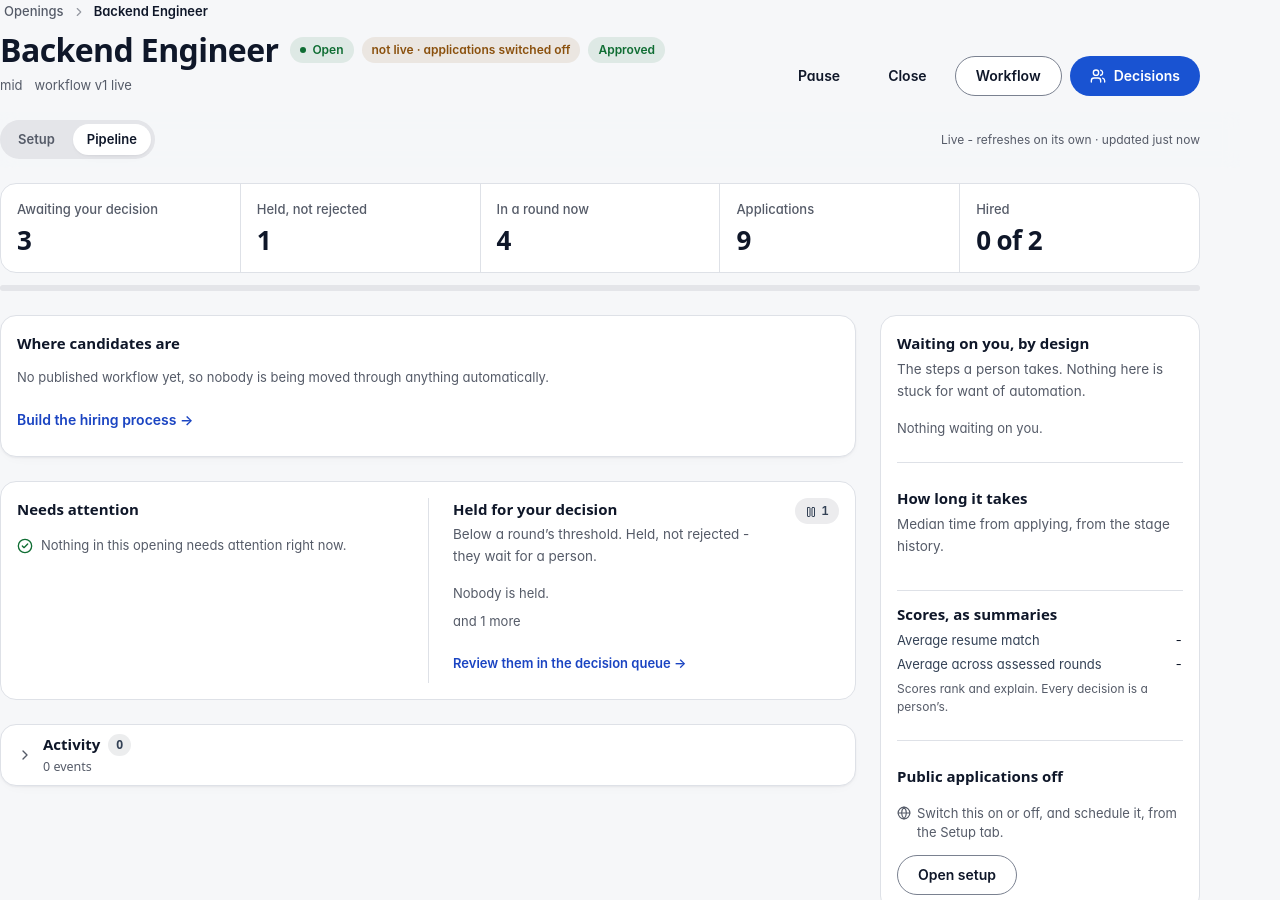
Test: closing an opening (AC-12) › lets the manager back out without closing
What coordinates should you click on to do the following:
click the button "Close"
I would click on:
 (907, 76)
Its box is left=868, top=56, right=947, bottom=96.
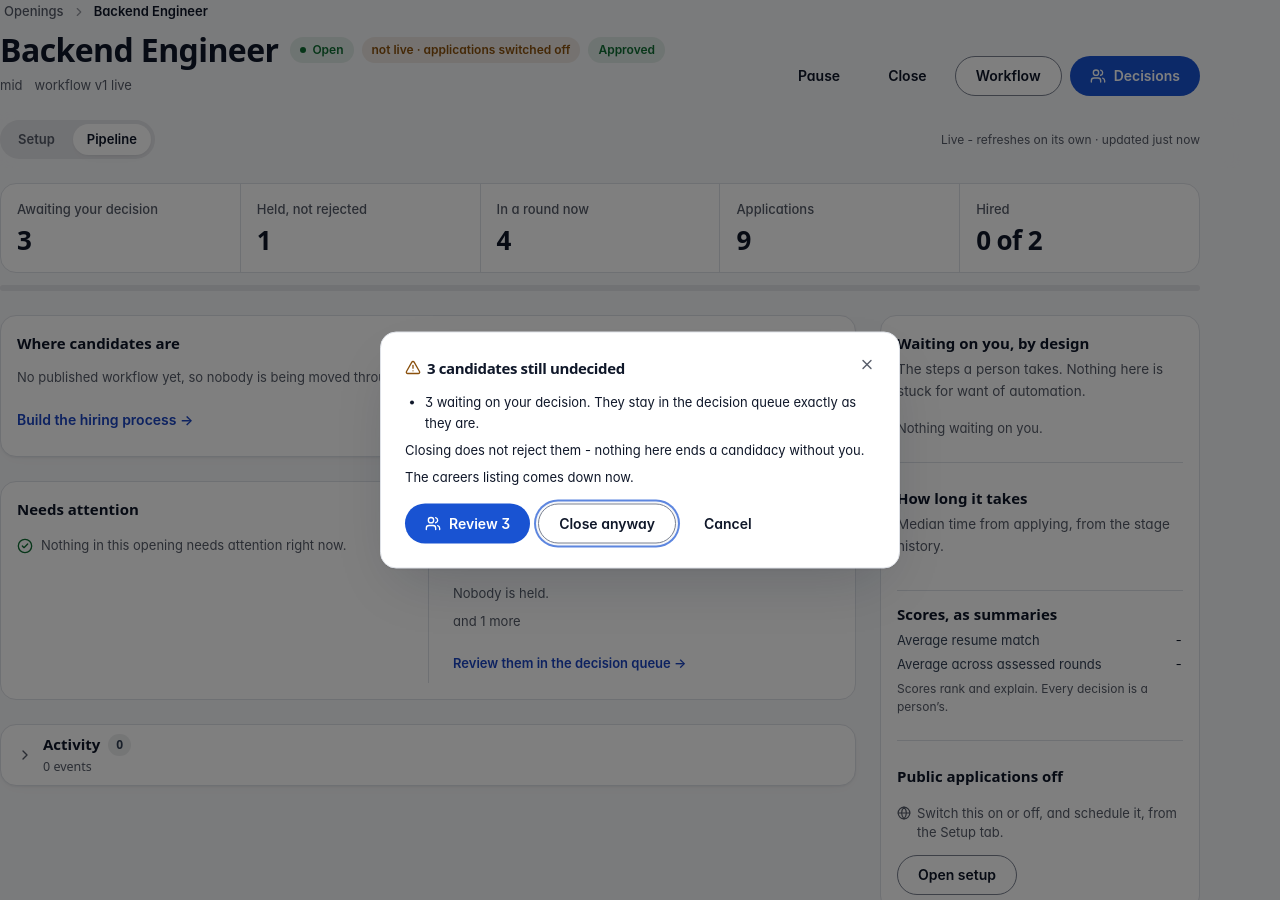
What coordinates should you click on to do the following:
click the button "Cancel"
I would click on:
 (728, 524)
Its box is left=684, top=504, right=772, bottom=544.
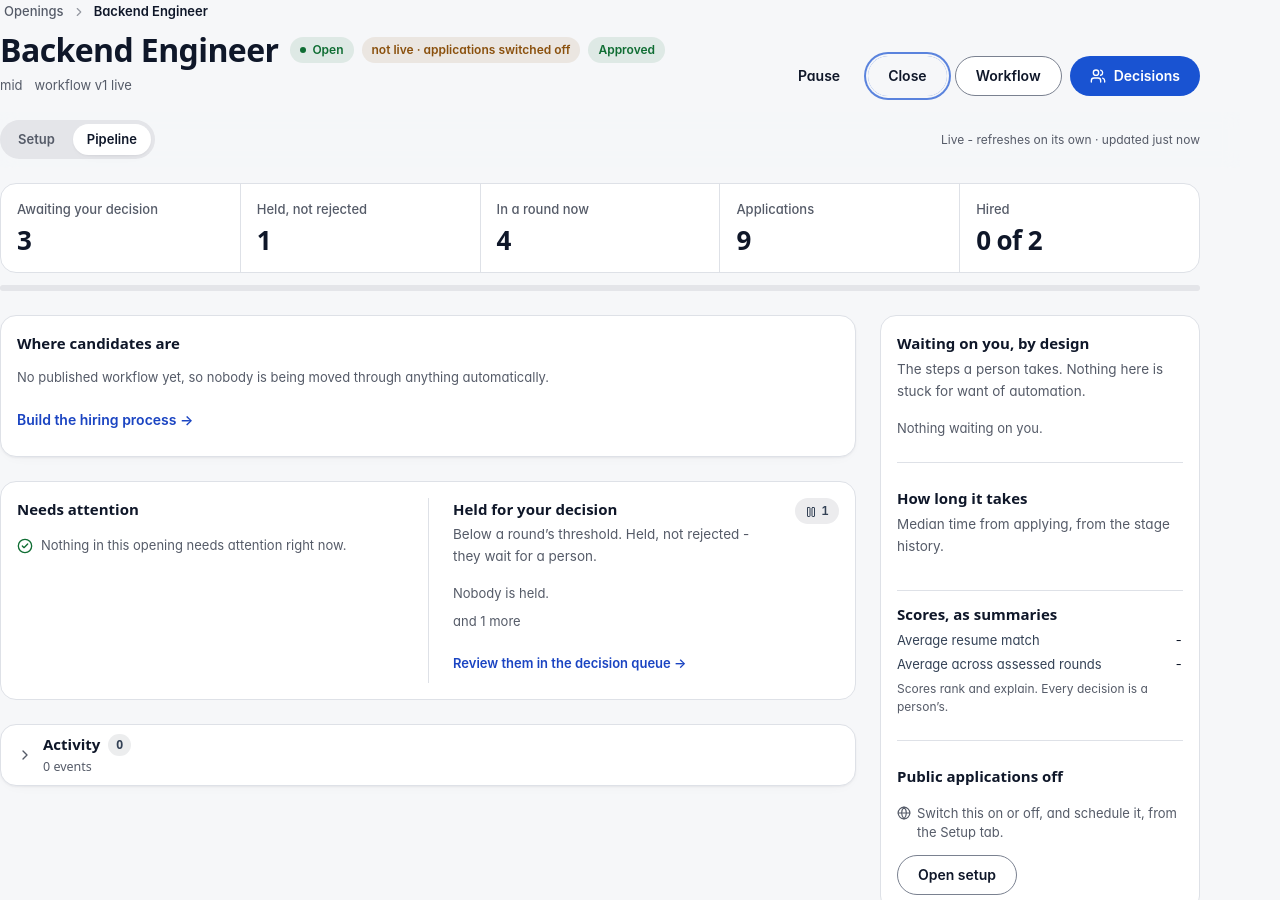
Expected: the dialog is gone
